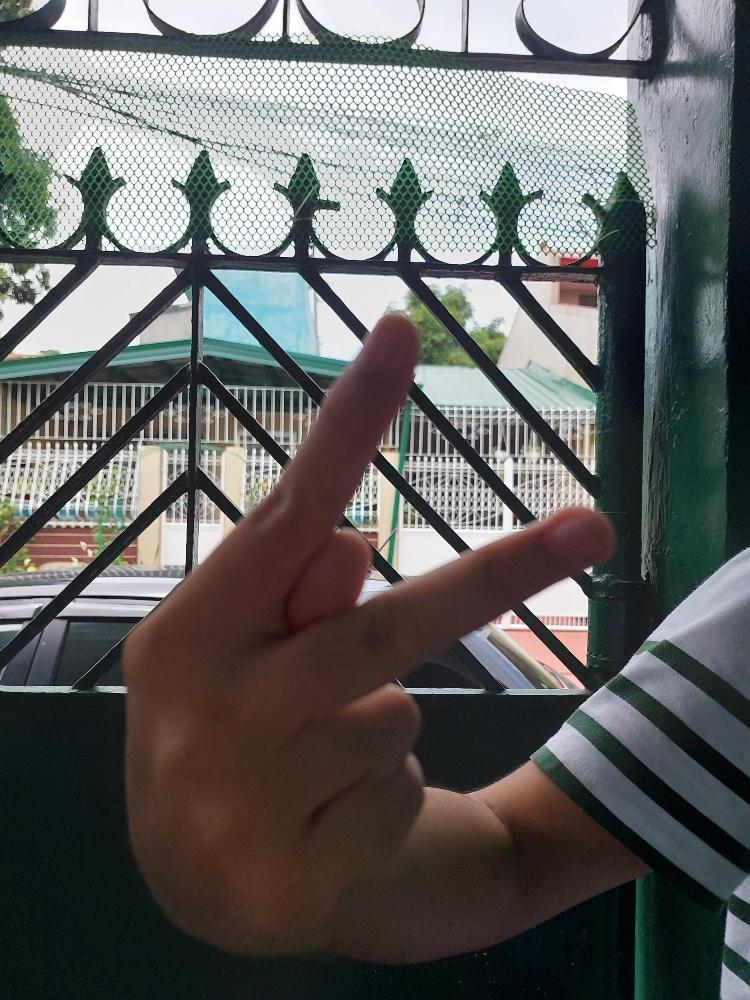k: (115, 304, 618, 963)
